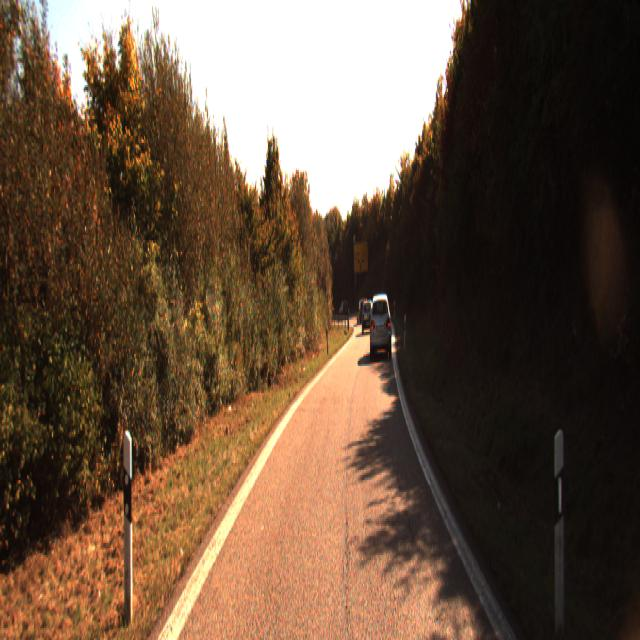Car: (369, 290, 392, 357), (362, 300, 374, 334), (357, 300, 368, 324)
